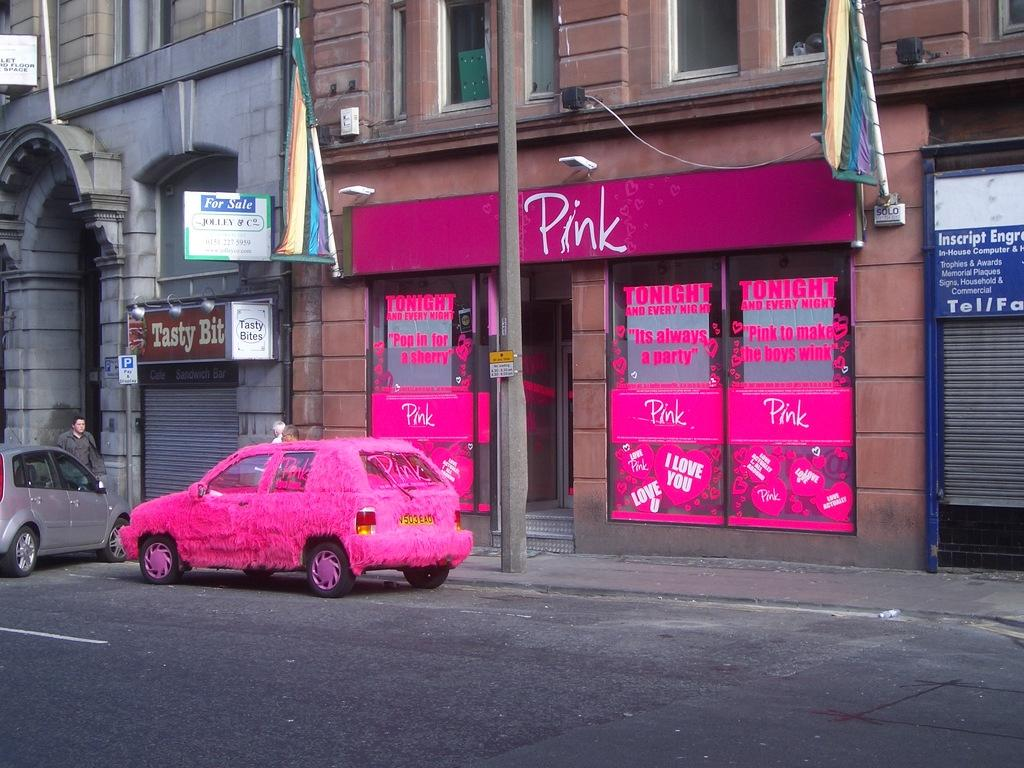Car: (116, 441, 476, 596), (0, 449, 127, 577)
